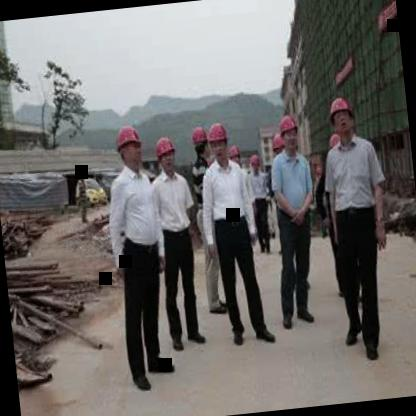helmet: (112, 121, 147, 170), (325, 92, 359, 140), (271, 110, 299, 158), (204, 119, 232, 166), (153, 134, 180, 176), (189, 126, 209, 165), (272, 132, 288, 168), (247, 151, 261, 178)
